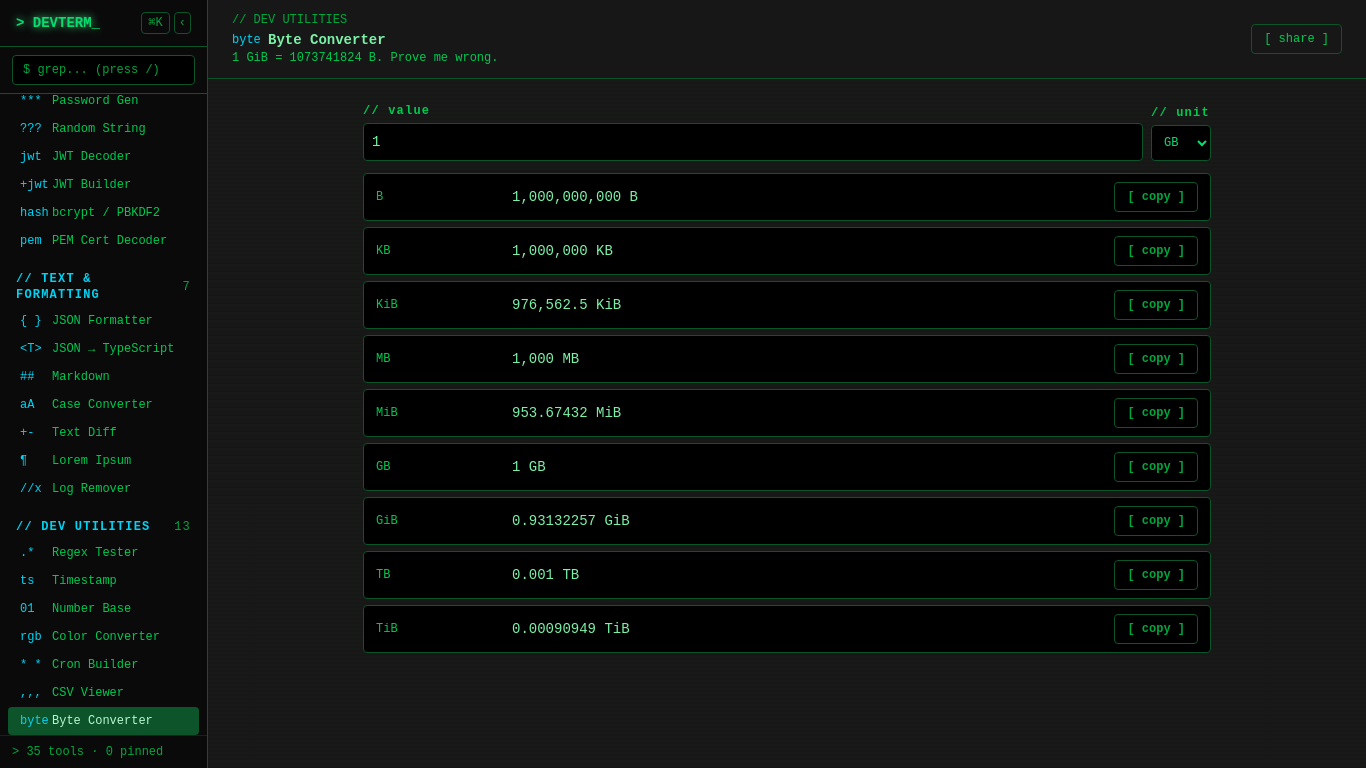
it: Byte Converter › converts 1 GiB correctly
(page scrolled)
Check: the element that starts with "value" is shown, box [363,103,1211,653]
Select "GiB" in the dropdown: (1181, 143) [1151,125,1211,161]
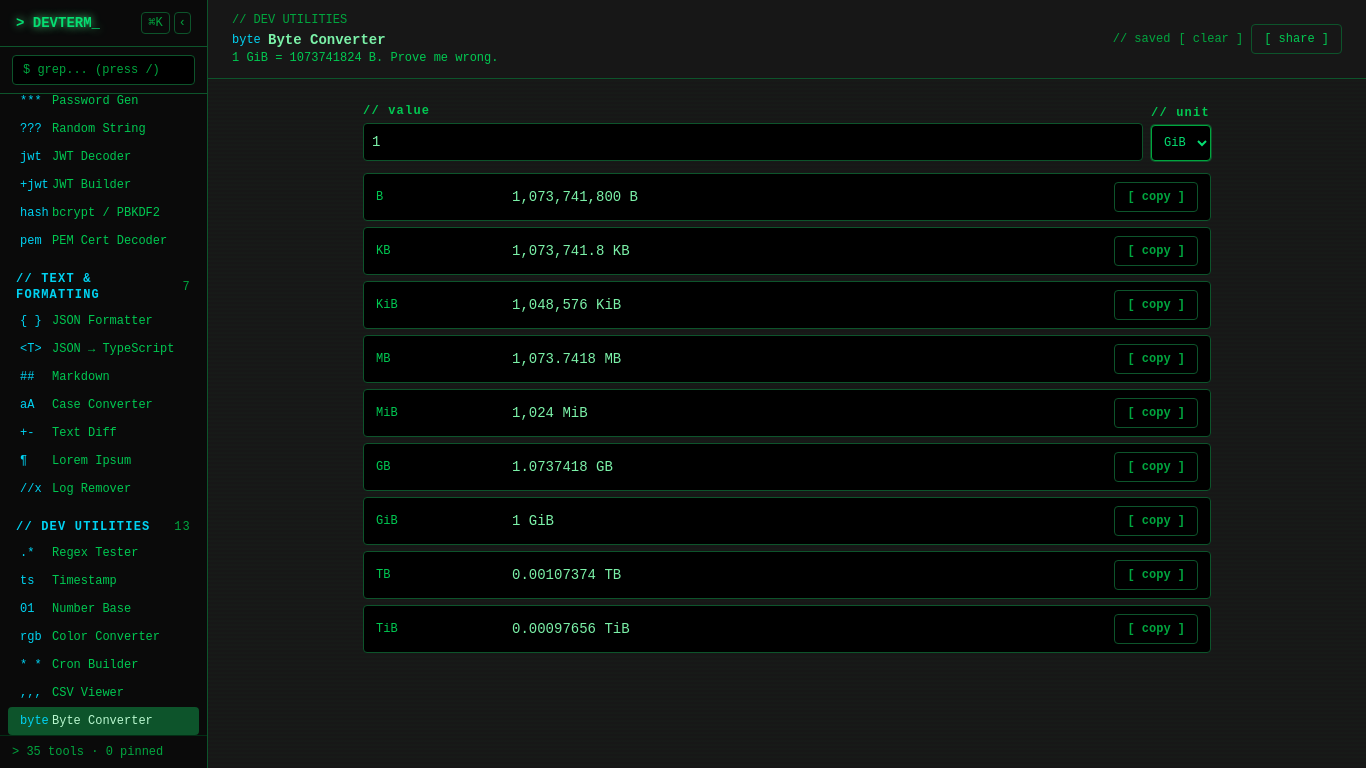
Check: the text "1,073,741,800 B" is shown, box [512,189,638,205]
